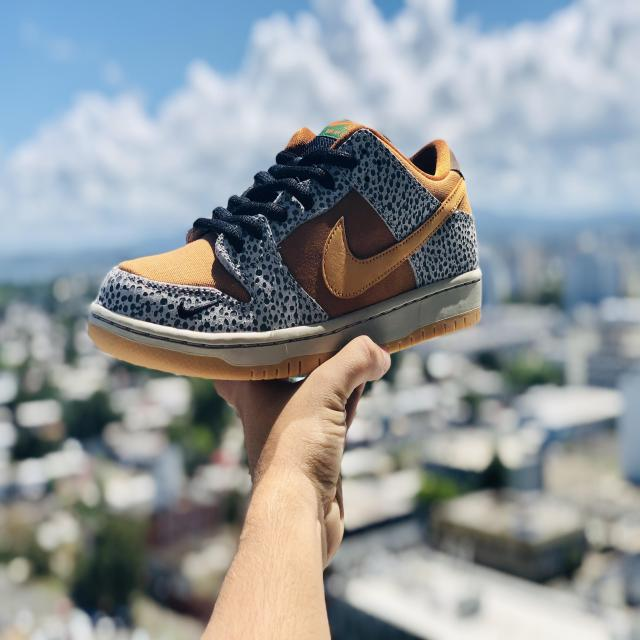shoe: (81, 108, 493, 396)
